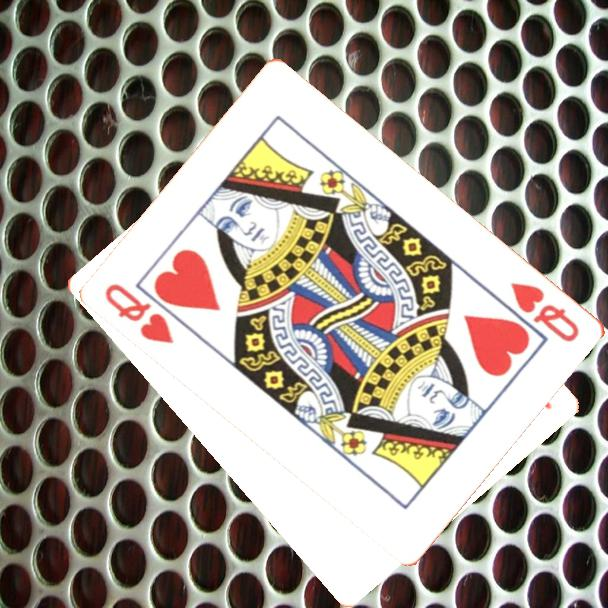h12: (507, 278, 583, 345), (102, 280, 178, 347)
